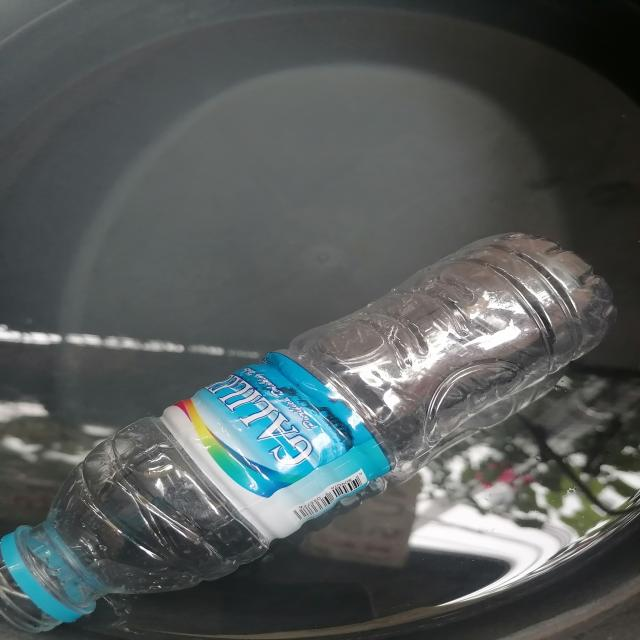Plastic Bottle: (0, 233, 616, 631)
